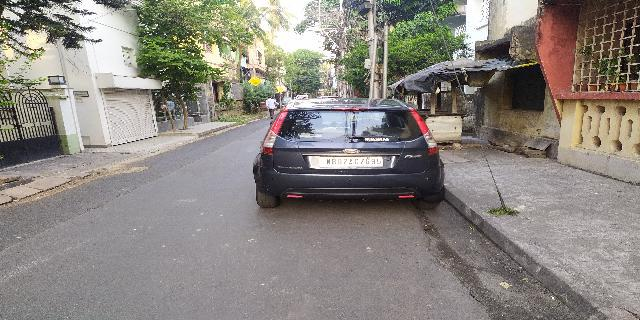Car: (251, 101, 447, 212)
